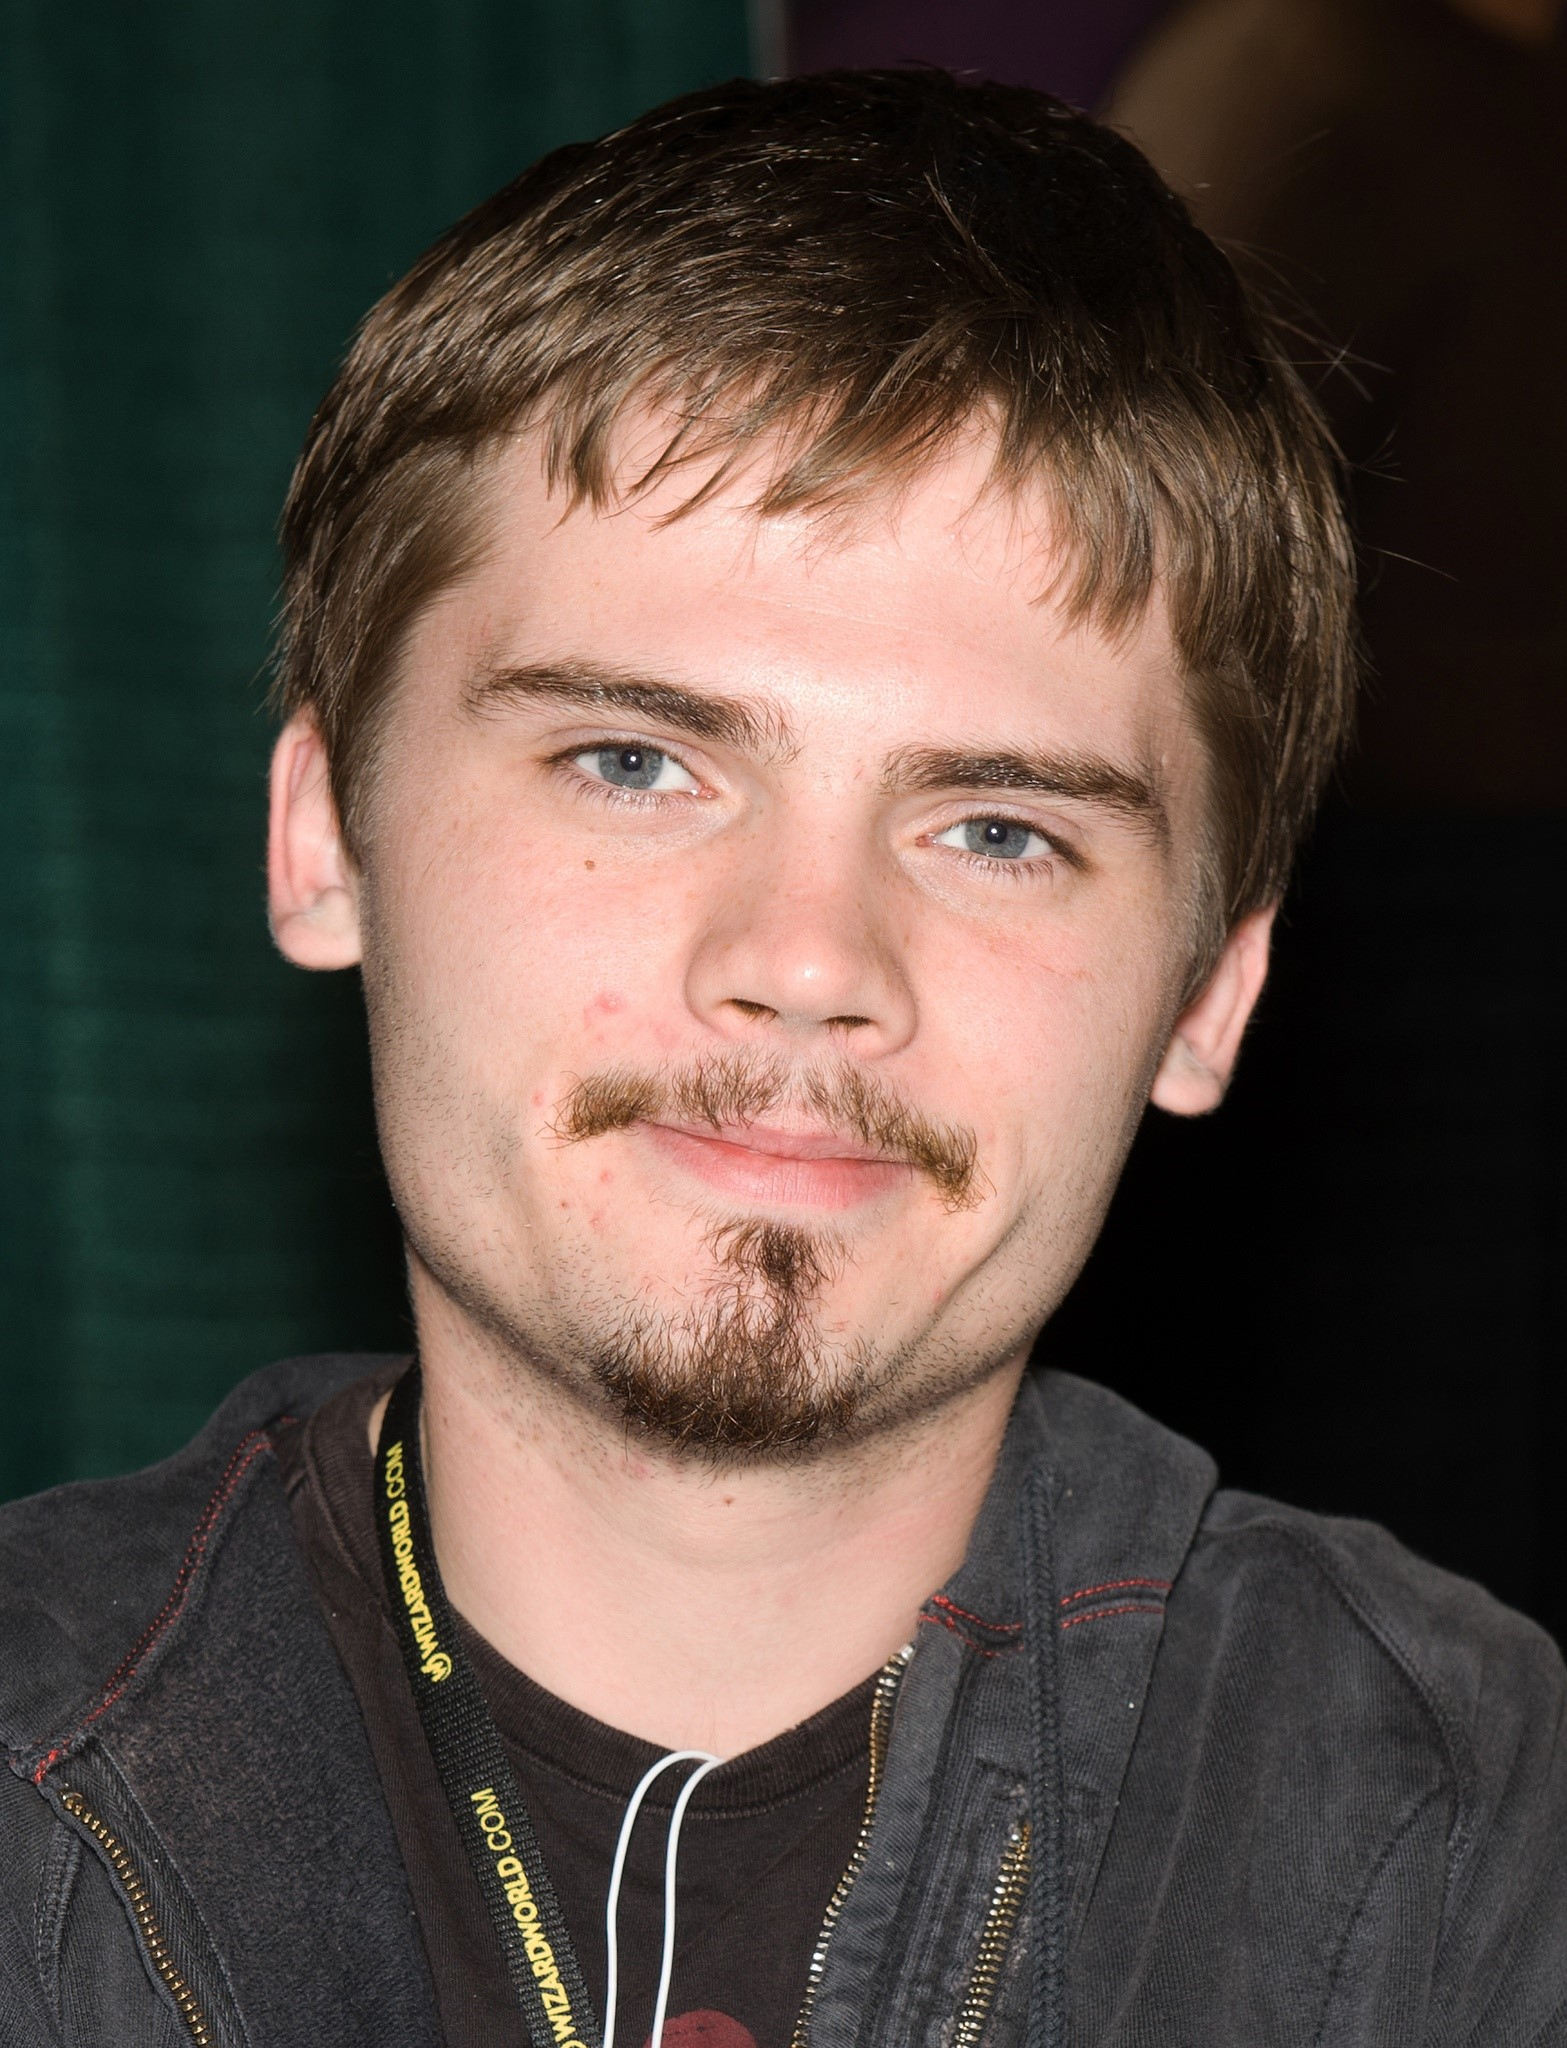face_no_mask: (233, 278, 1338, 1508)
